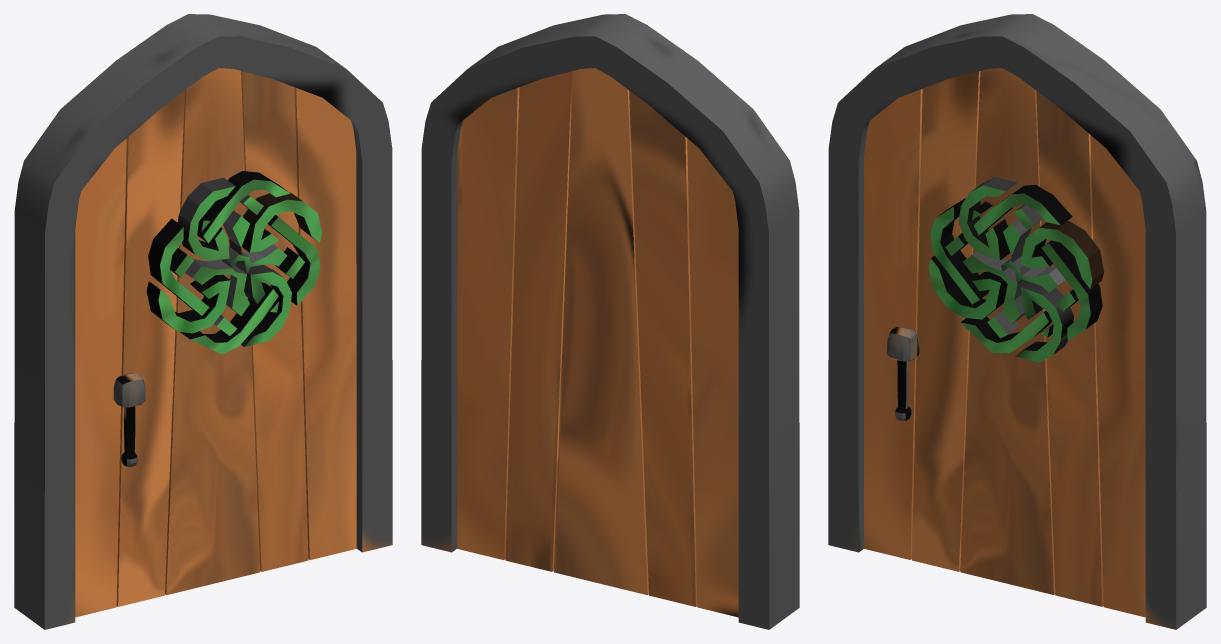
The model's file is door1.glb.
The picture shows the model from 3 angles, left to right: view 1: azimuth 30°, elevation 25°; view 2: azimuth 150°, elevation 25°; view 3: azimuth 330°, elevation 25°; orthographic projection.
Visible parts, largest first — view 1: Cube.001; view 2: Cube.001; view 3: Cube.001.
Boxes of the visible parts, x1=… form: Cube.001: x1=14, y1=14, x2=392, y2=629; Cube.001: x1=421, y1=14, x2=799, y2=629; Cube.001: x1=828, y1=14, x2=1206, y2=629.
Bounding box in the file's own units: 0.6281 × 0.9512 × 0.1318.
1 material, 1 textured.
